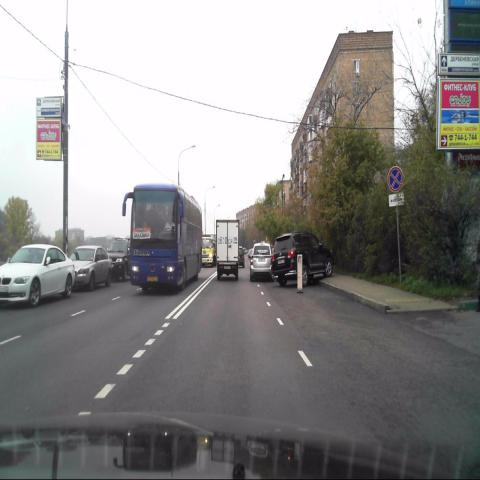3_27: (387, 165, 403, 192)
